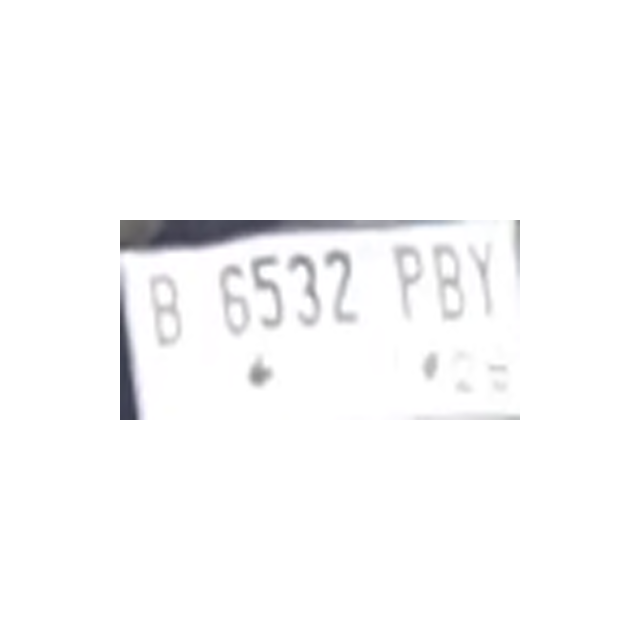contain: (145, 274, 192, 354), (203, 259, 250, 339), (248, 253, 288, 333), (284, 252, 324, 332), (319, 248, 359, 328), (387, 239, 427, 319), (464, 238, 504, 318), (429, 243, 463, 327)
